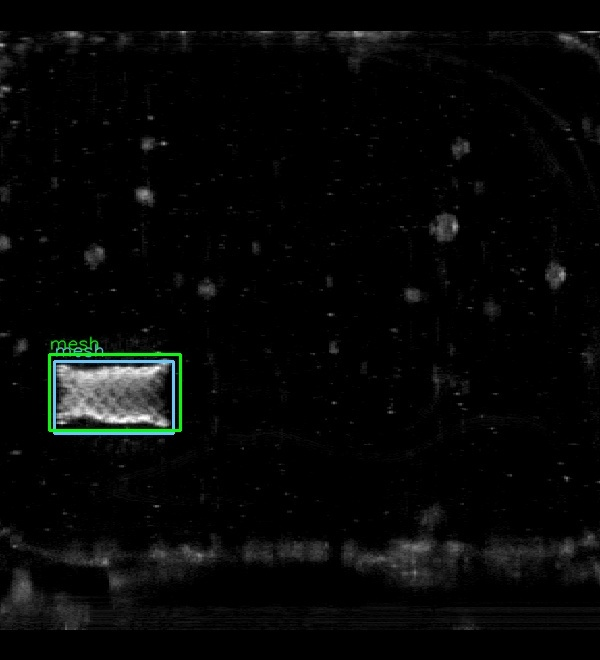mesh: (54, 361, 173, 433)
